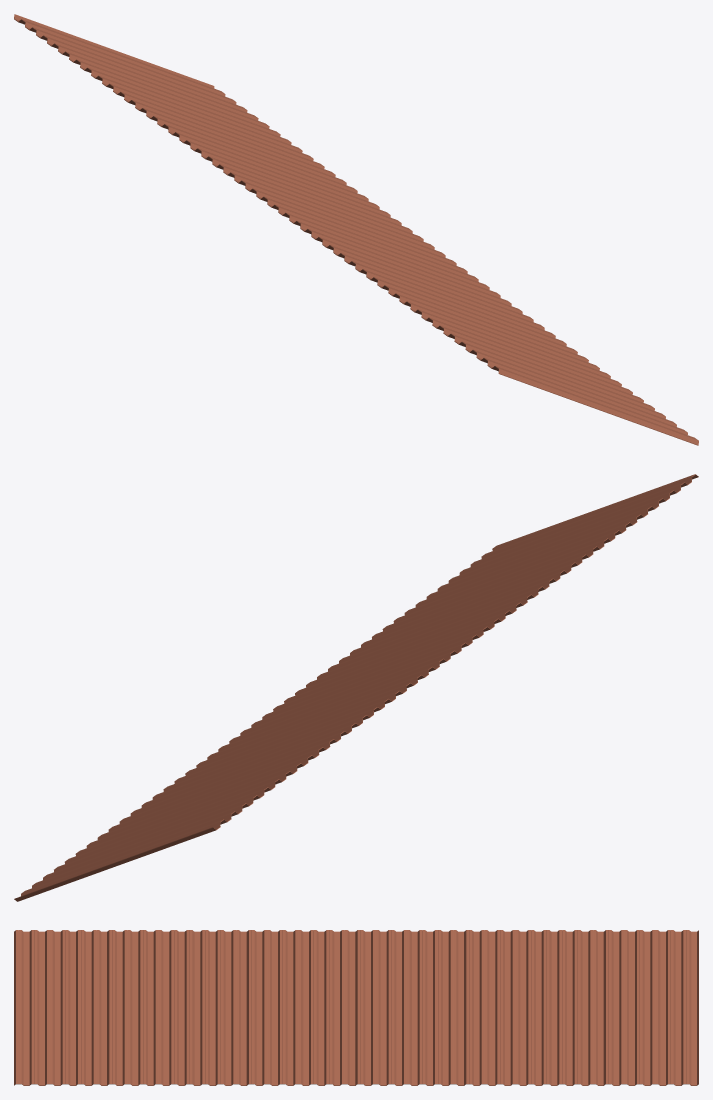
The model's file is SM_Timber_RoofProfile_L.fbx.
3 views of the same model, one above another, from view 1: azimuth 30°, elevation 25°; view 2: azimuth 150°, elevation 25°; view 3: azimuth 270°, elevation 25° (orthographic). The views are drawn at different scales.
Parts seen in each view (by area): view 1: SM_Timber_RoofProfile_L; view 2: SM_Timber_RoofProfile_L; view 3: SM_Timber_RoofProfile_L.
Boxes of the visible parts, bbox=[...] form: SM_Timber_RoofProfile_L: bbox=[14, 14, 698, 445]; SM_Timber_RoofProfile_L: bbox=[14, 474, 698, 901]; SM_Timber_RoofProfile_L: bbox=[14, 930, 698, 1085].
Size of the model in its own units: 201 by 118 by 839.
